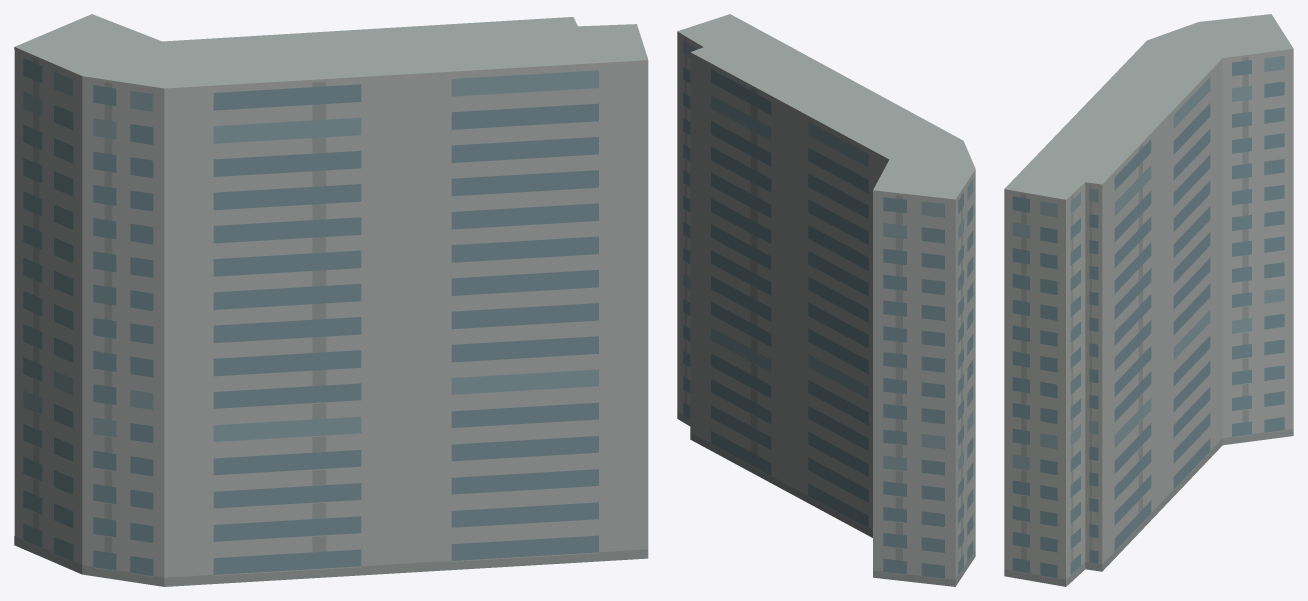
Rendered from survey-upis-32512373.glb.
The picture shows the model from 3 angles, left to right: view 1: azimuth 30°, elevation 25°; view 2: azimuth 150°, elevation 25°; view 3: azimuth 270°, elevation 25°; orthographic projection. The views are drawn at different scales.
Parts seen in each view (by area): view 1: survey-upis-32512373.tmp; view 2: survey-upis-32512373.tmp; view 3: survey-upis-32512373.tmp.
Boxes of the visible parts, <box> form: survey-upis-32512373.tmp: <box>14,14,648,586</box>; survey-upis-32512373.tmp: <box>677,14,975,586</box>; survey-upis-32512373.tmp: <box>1004,14,1293,586</box>.
Bounding box in the file's own units: 47.1 × 45.75 × 31.02.
